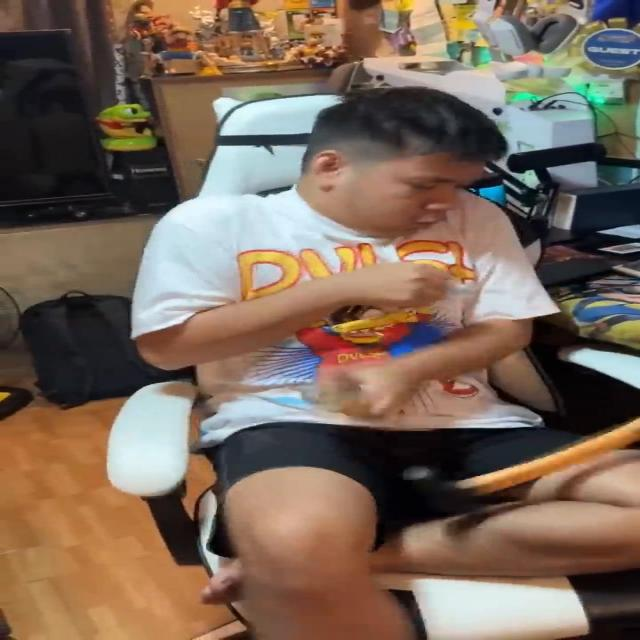hammer: (404, 418, 640, 518)
